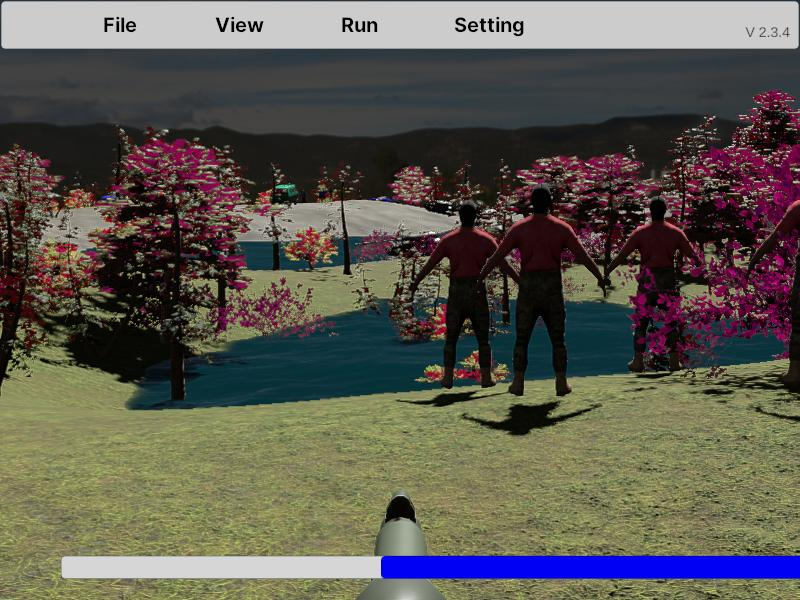Human: (476, 184, 606, 400), (413, 199, 520, 390), (605, 196, 709, 373), (749, 163, 800, 411)
